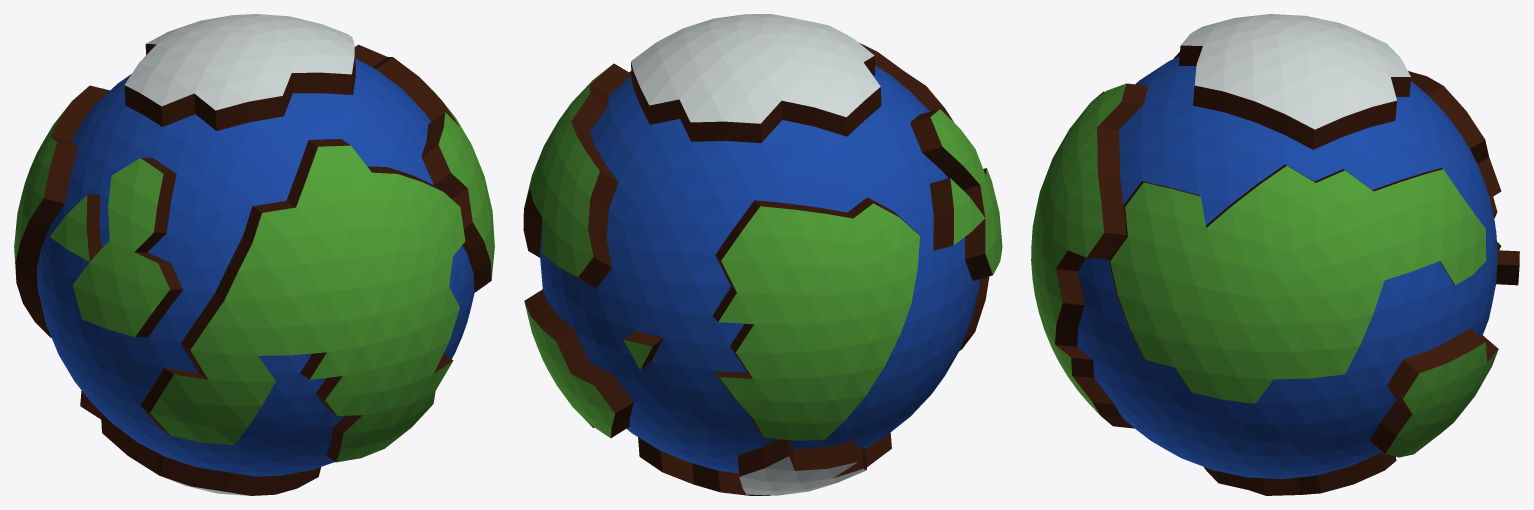
File: ExportedBlenderFBXFile.fbx
The picture shows the model from 3 angles, left to right: view 1: azimuth 30°, elevation 25°; view 2: azimuth 150°, elevation 25°; view 3: azimuth 270°, elevation 25°; orthographic projection.
Parts seen in each view (by area): view 1: Icosphere; view 2: Icosphere; view 3: Icosphere.
Boxes of the visible parts, left/top/right/bottom form: Icosphere: left=14, top=14, right=494, bottom=495; Icosphere: left=523, top=14, right=1002, bottom=495; Icosphere: left=1031, top=14, right=1519, bottom=495.
Bounding box in the file's own units: 2.16 × 2.2 × 2.19.
